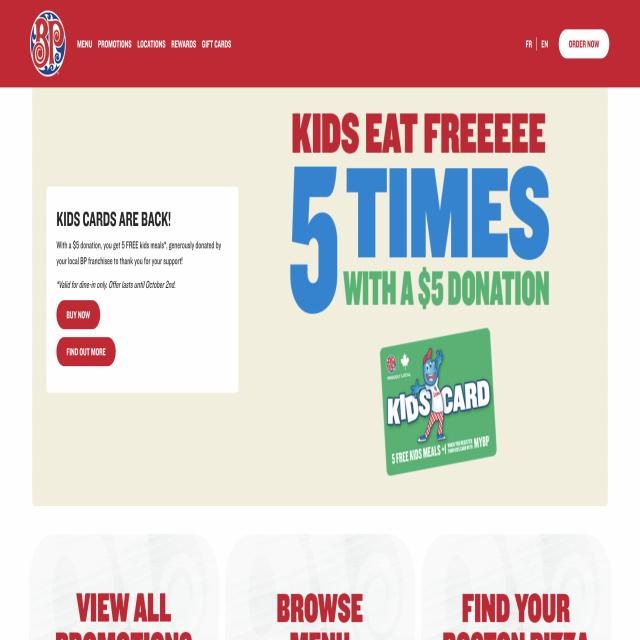Logo: (19, 3, 68, 81)
Navigation: (75, 30, 243, 53)
